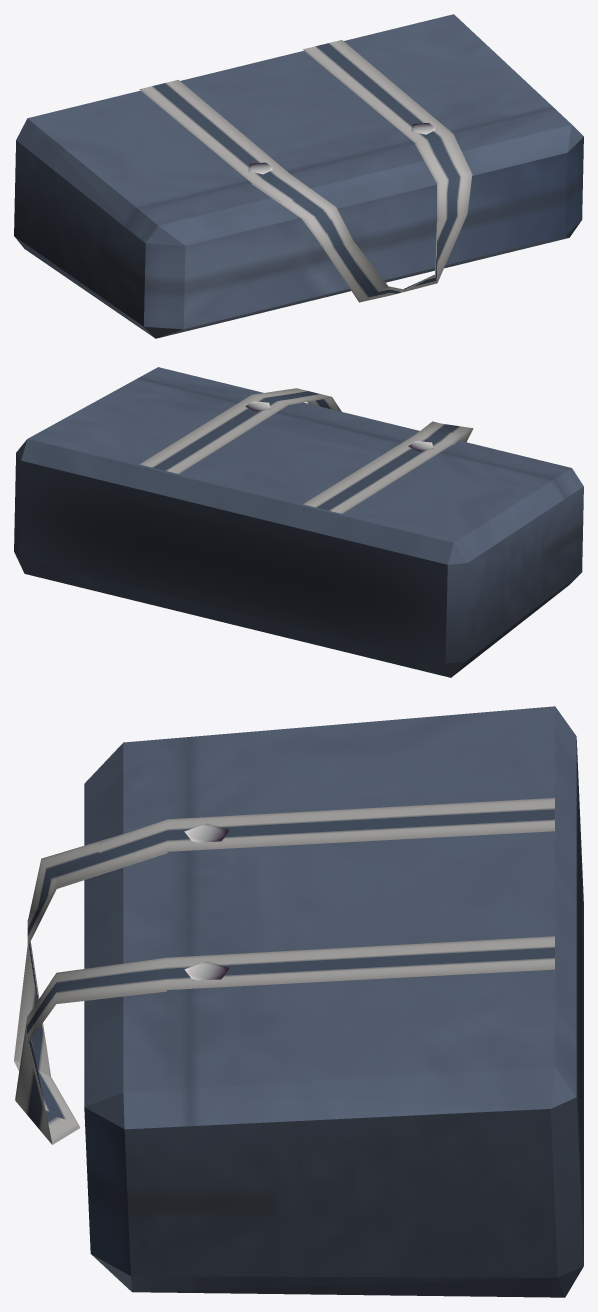
The model's file is bag_typeA3.FBX.
The picture shows the model from 3 angles, top to bottom: view 1: azimuth 30°, elevation 25°; view 2: azimuth 150°, elevation 25°; view 3: azimuth 270°, elevation 25°; orthographic projection. The views are drawn at different scales.
Visible parts, largest first — view 1: crm_bagA002; view 2: crm_bagA002; view 3: crm_bagA002.
Part boxes in pixels (left/top/right/bottom): crm_bagA002: left=14, top=14, right=583, bottom=338; crm_bagA002: left=14, top=367, right=583, bottom=677; crm_bagA002: left=14, top=706, right=583, bottom=1297.
Bounding box in the file's own units: 43.33 × 12.33 × 27.3.
